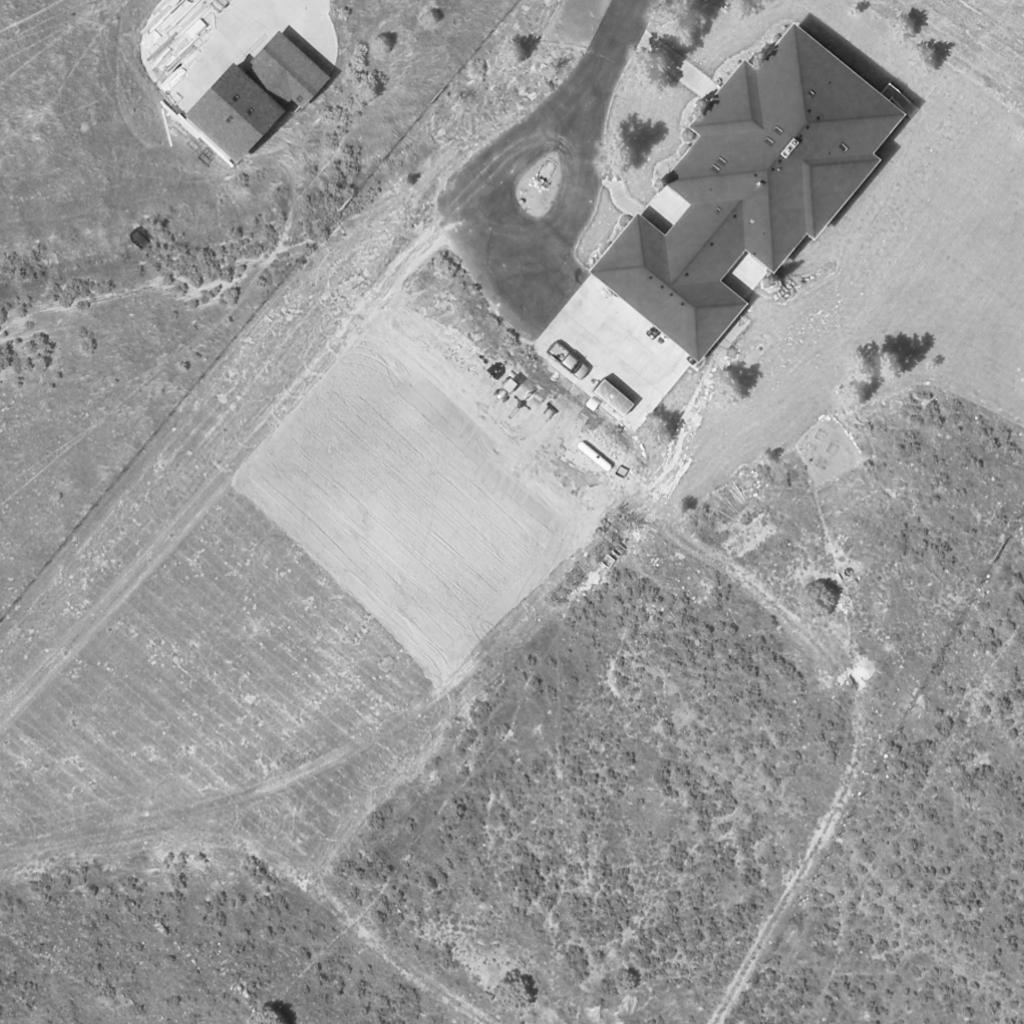vehicle: (548, 340, 592, 380), (490, 367, 530, 407), (595, 380, 635, 416)
